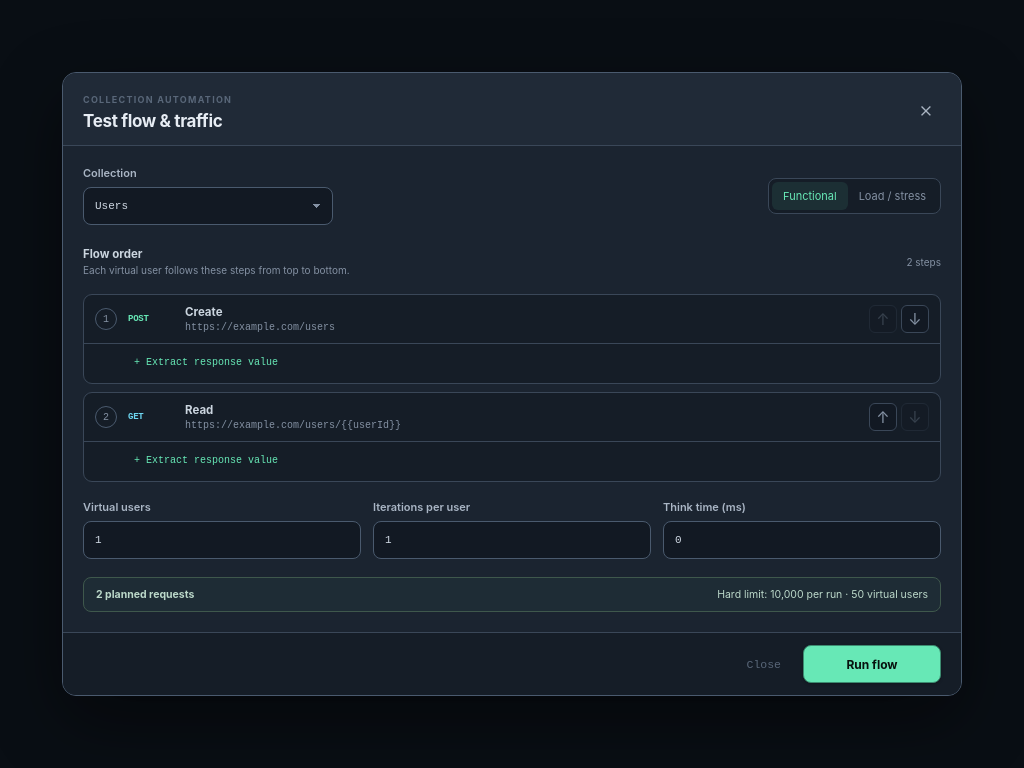
CollectionRunnerDialog › requires explicit authorization before a load run
Click the button "Load / stress" at coordinates (892, 196), box [848,182,937,210]
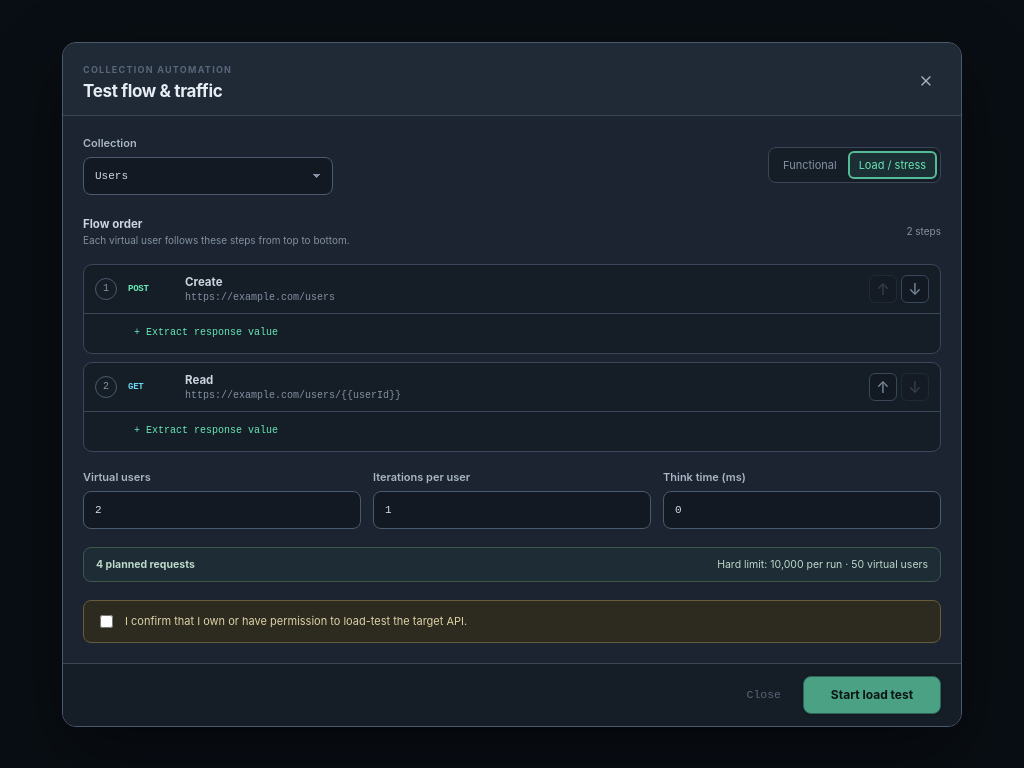
Check: the button "Start load test" is disabled, box [803,676,941,714]
Click the text "I confirm that I own" at coordinates (296, 621), box [125,614,467,628]
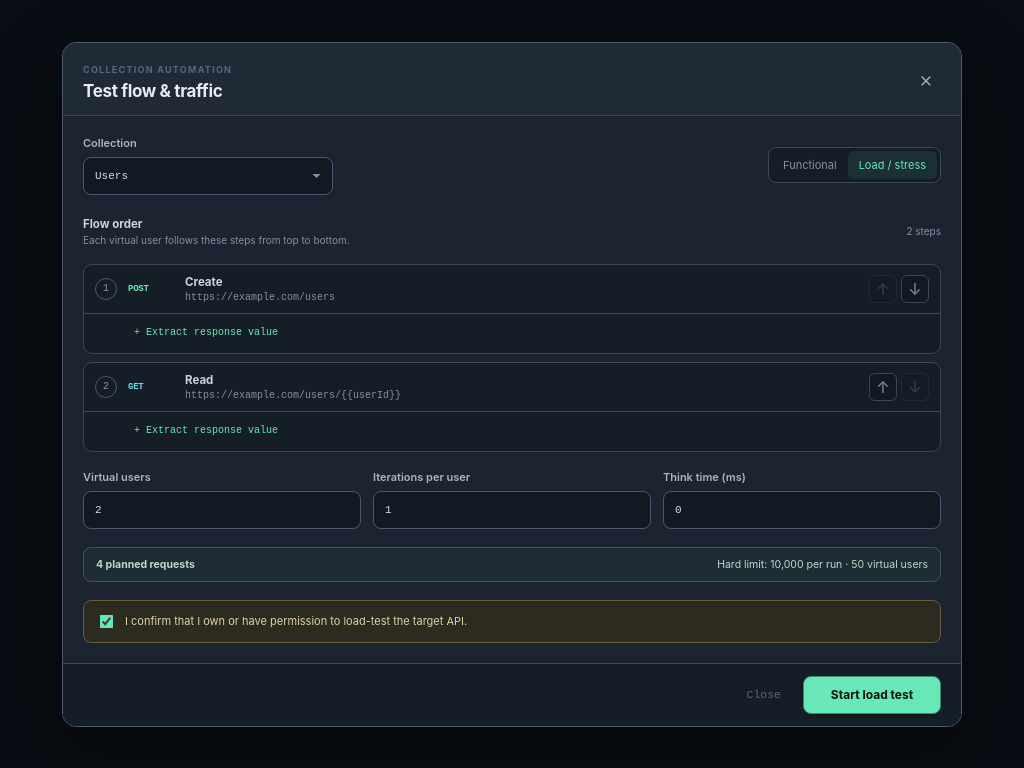
Check: the button "Start load test" is enabled, box [803,676,941,714]
